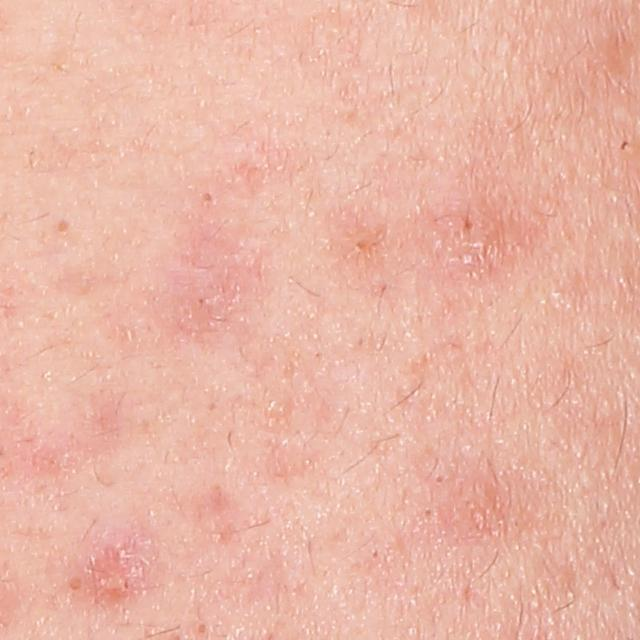comedo: (52, 215, 73, 239), (65, 576, 81, 593), (194, 620, 209, 636), (200, 190, 215, 204)
papule: (439, 205, 503, 263), (88, 538, 144, 590)
